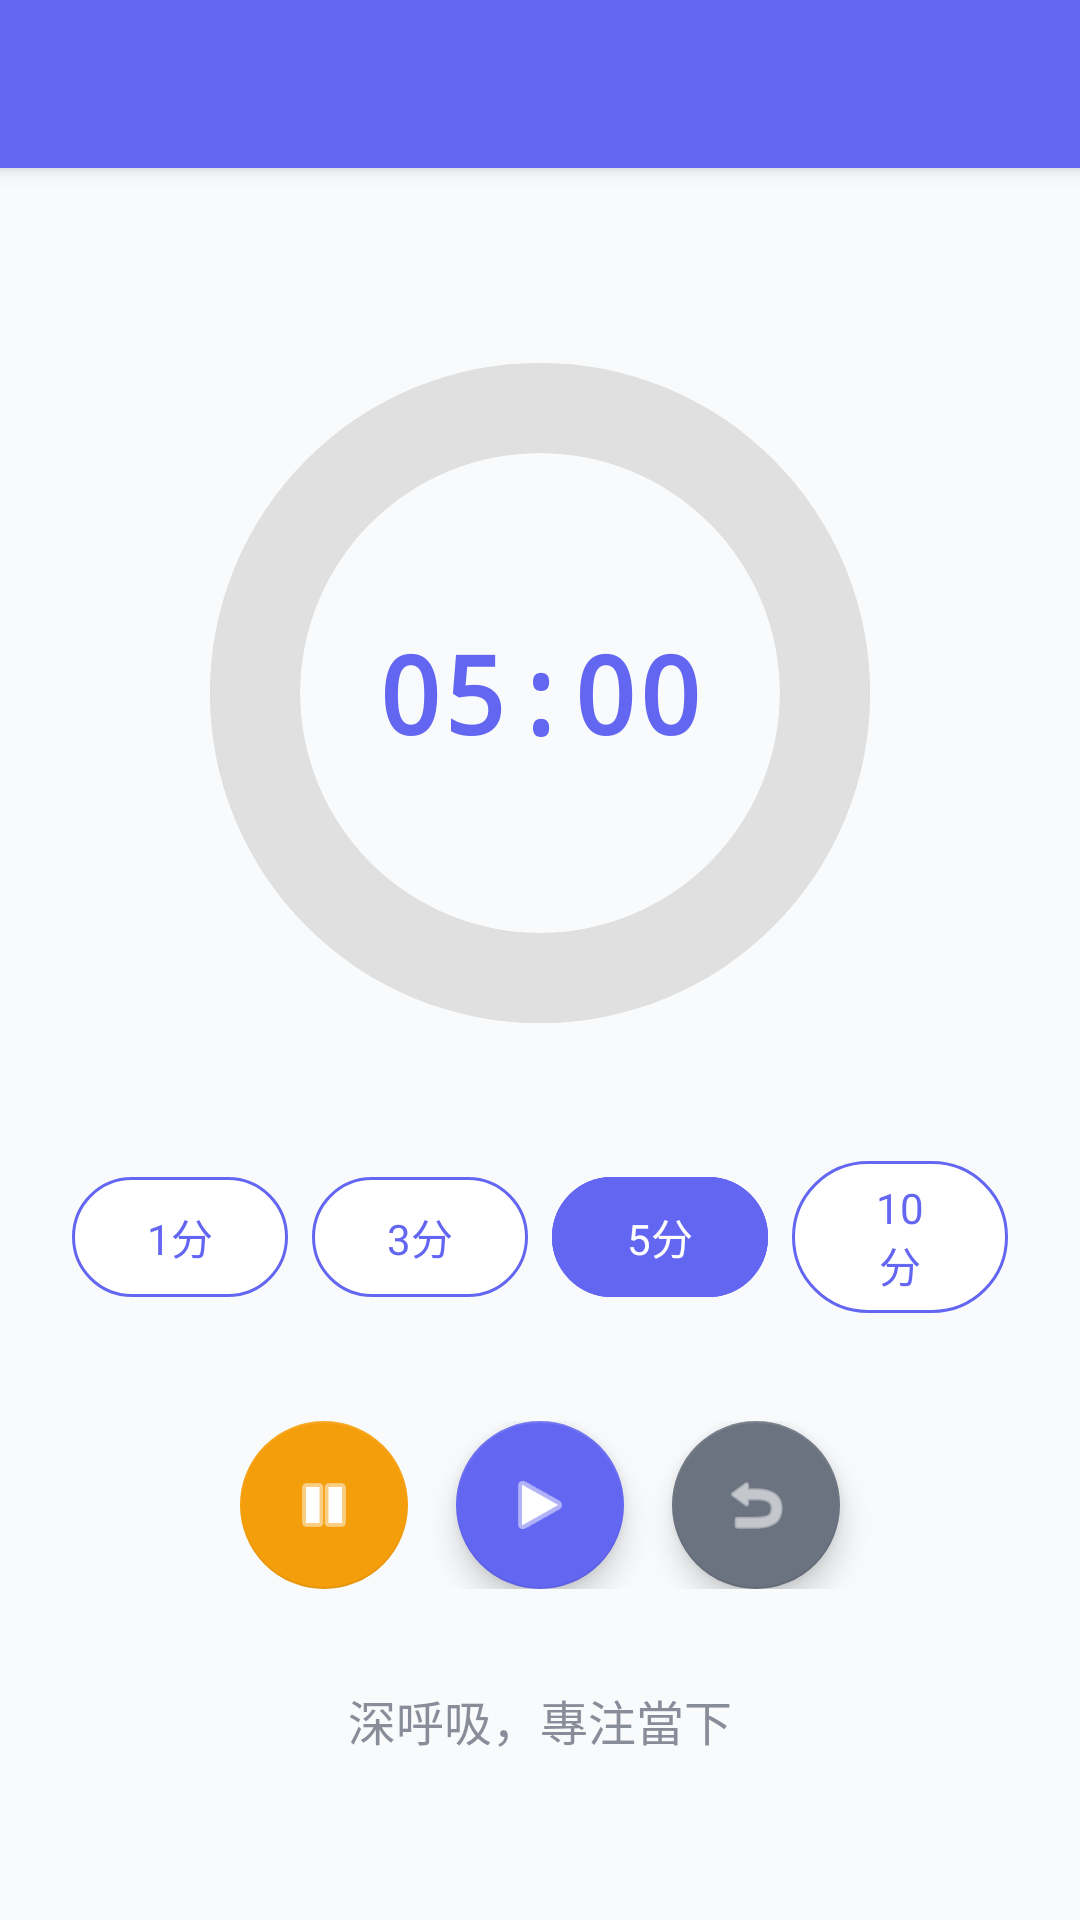

Icons on this 1080px x 1920px Android screen, each with its box as (x1, y1, x2, y2):
暫停: (240, 1421, 408, 1589)
重置: (672, 1421, 840, 1589)
開始: (456, 1421, 624, 1589)
